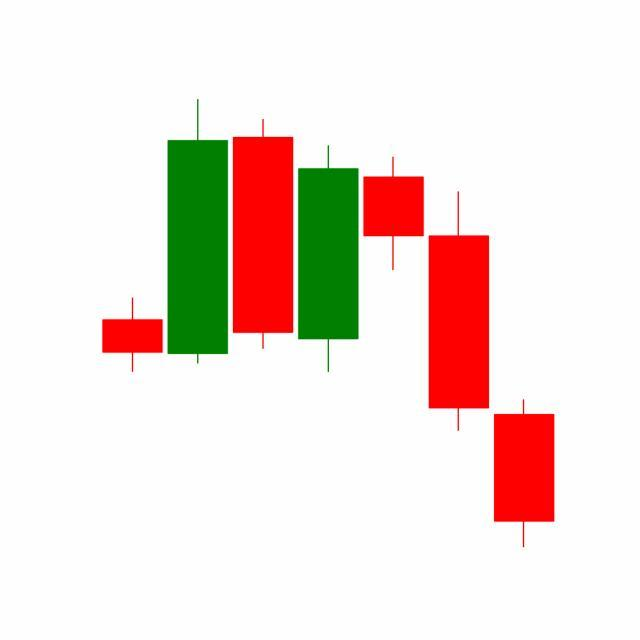Three Inside Up-Down: (295, 142, 492, 434)
